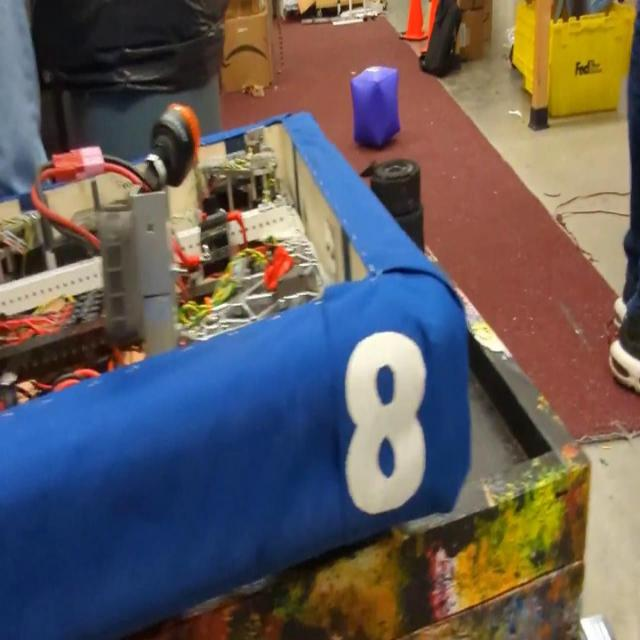frc_cube: (350, 63, 400, 151)
